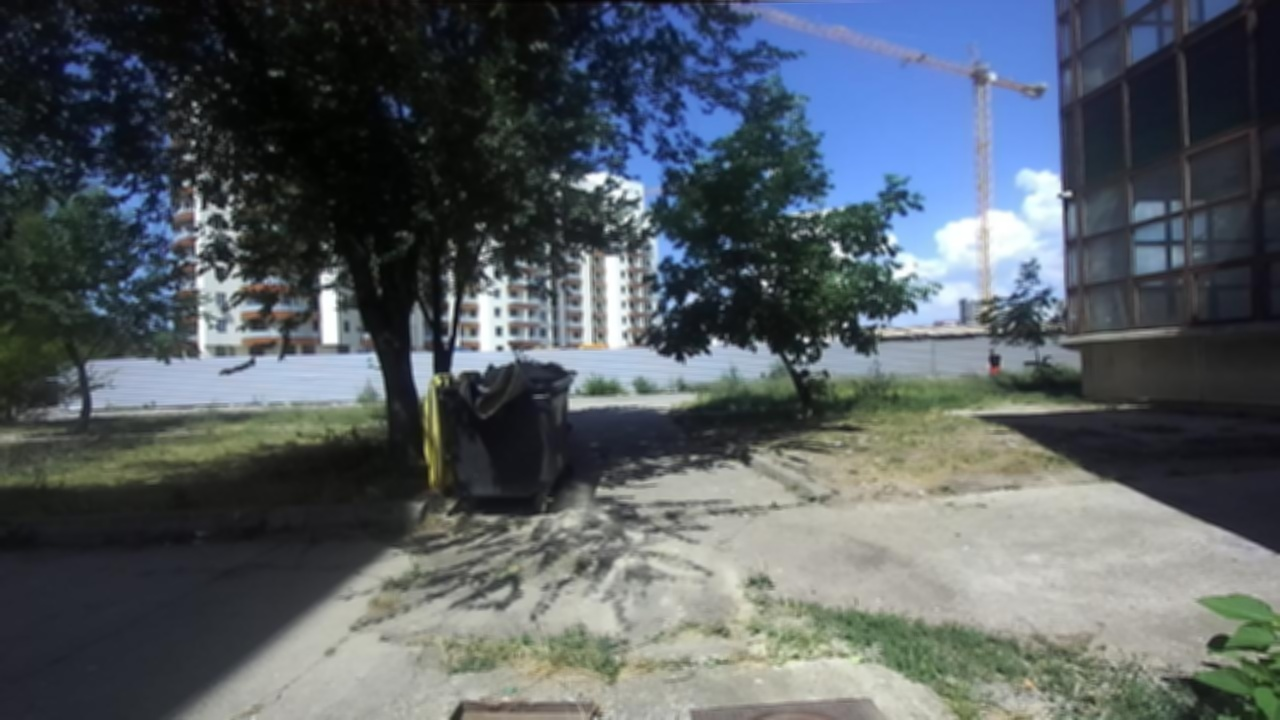drain: (445, 697, 603, 719)
